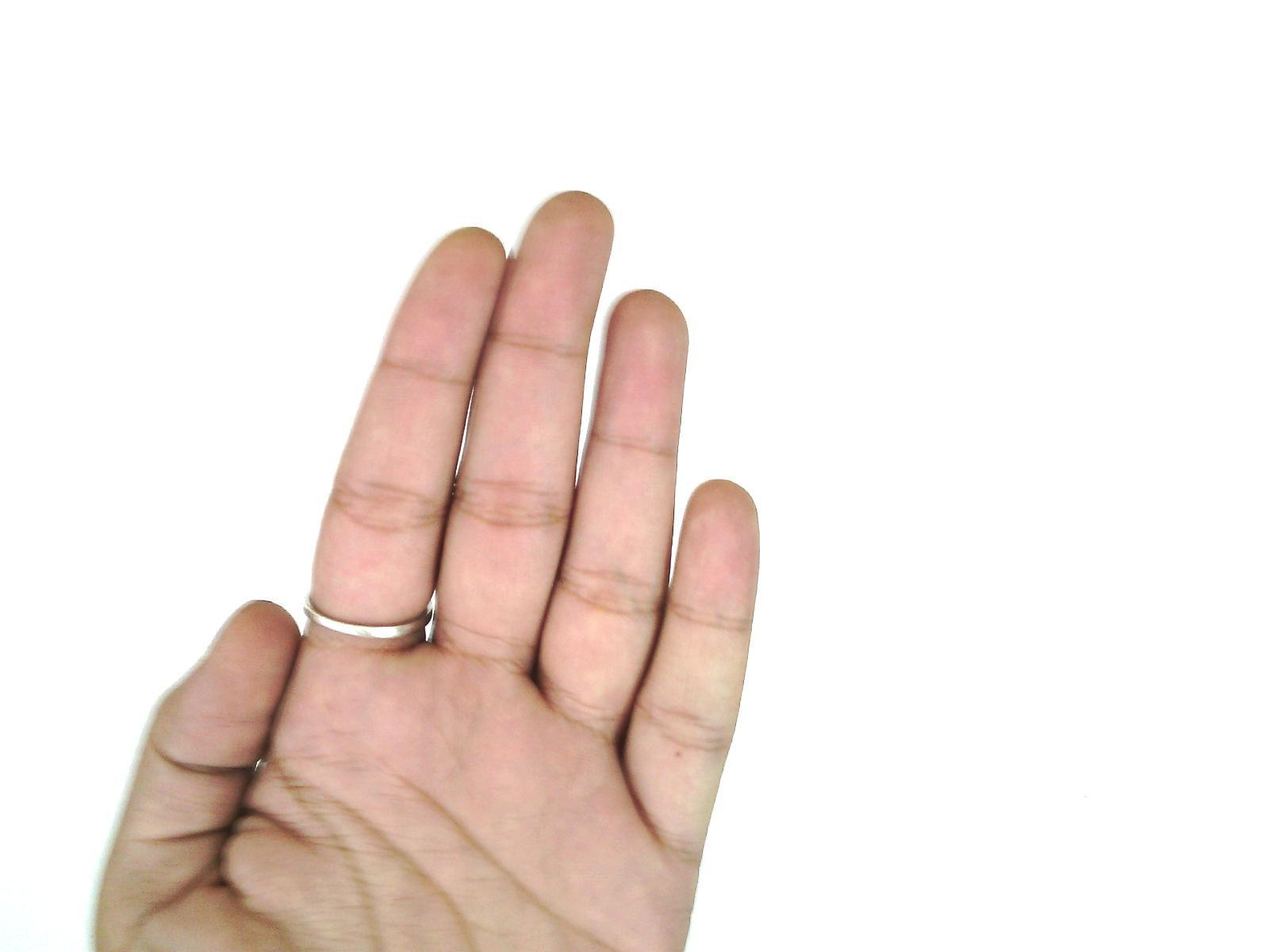open_palm: (90, 189, 765, 952)
